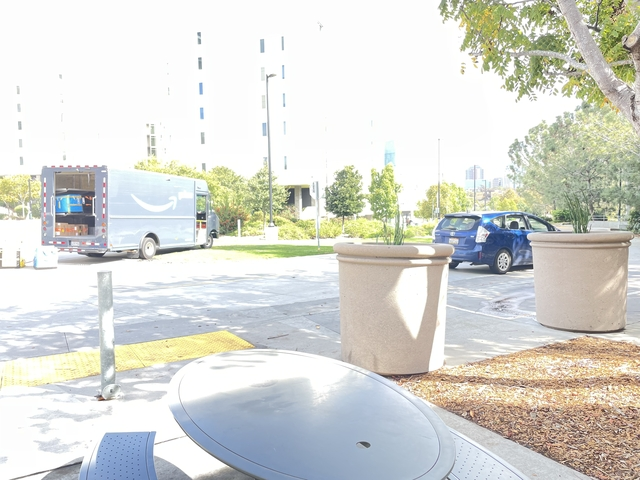Car: (39, 161, 222, 260), (428, 212, 574, 275)
